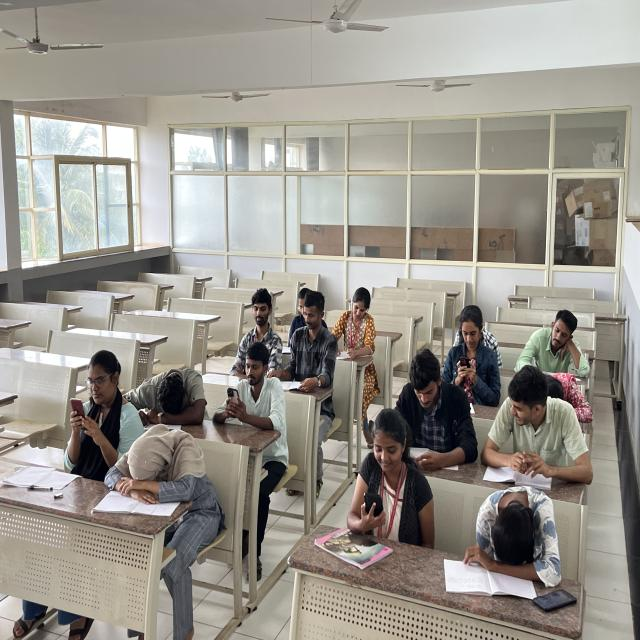Sleeping: (92, 416, 220, 518), (461, 479, 567, 584), (130, 361, 210, 431)
Using Phone: (346, 401, 434, 538), (58, 347, 140, 470), (212, 343, 284, 430), (434, 310, 504, 397)
Writing: (330, 276, 381, 364)
